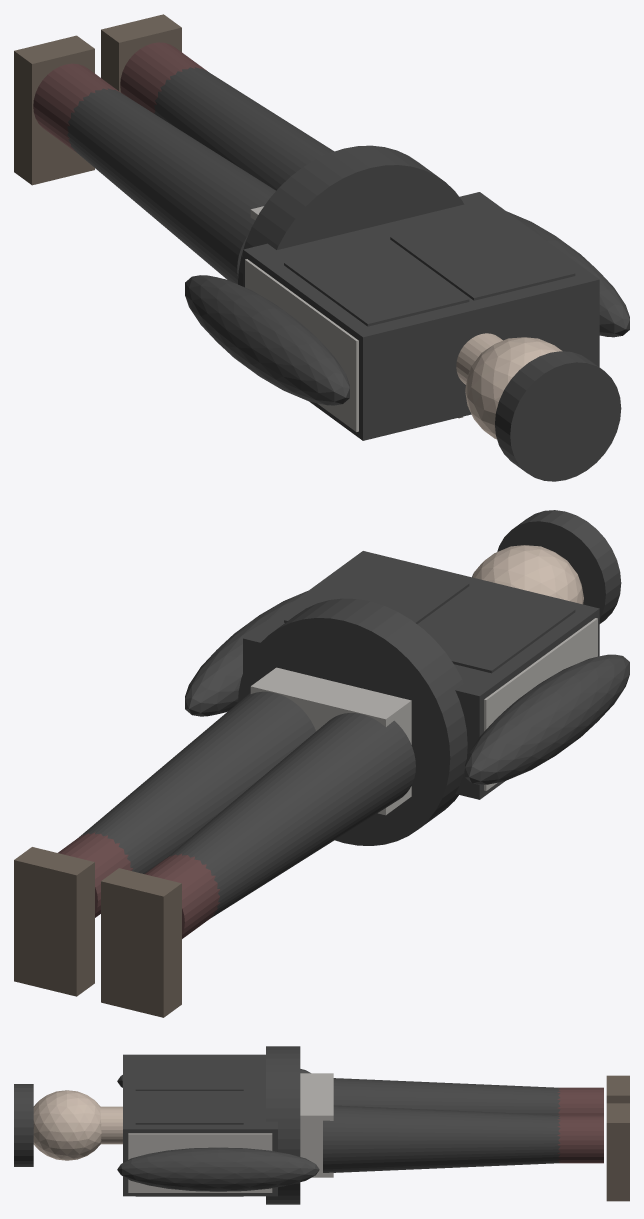
File: MASTER_053_STAGE3_DETAIL.glb
The picture shows the model from 3 angles, top to bottom: view 1: azimuth 30°, elevation 25°; view 2: azimuth 150°, elevation 25°; view 3: azimuth 270°, elevation 25°; orthographic projection. The views are drawn at different scales.
Parts seen in each view (by area): view 1: slot_upper_inner__këmishë, slot_lower_main__pantallona_L, slot_waist__brez, slot_headwear__mbulesë_koke, slot_upper_inner_sleeve_L, slot_lower_main__pantallona_R, slot_upper_outer__jelek_R, slot_upper_outer__jelek_L, slot_footwear__opinga_L, mannequin_torso, mannequin_head, slot_legwear__çorape_L (+4 smaller); view 2: slot_waist__brez, slot_lower_main__pantallona_L, slot_lower_main__pantallona_R, slot_footwear__opinga_R, slot_footwear__opinga_L, slot_upper_inner_sleeve_L, slot_upper_inner__këmishë, slot_upper_outer__jelek_L, slot_headwear__mbulesë_koke, mannequin_hips, slot_upper_outer__jelek_R, mannequin_head (+4 smaller); view 3: slot_lower_main__pantallona_R, slot_upper_inner_sleeve_R, slot_lower_main__pantallona_L, slot_upper_inner__këmishë, mannequin_head, slot_waist__brez, slot_upper_outer__jelek_R, slot_upper_outer__jelek_L, mannequin_torso, mannequin_hips, slot_footwear__opinga_R, slot_legwear__çorape_R (+4 smaller).
Boxes of the visible parts, x1,y1,x2,y2 form: slot_upper_inner__këmishë: (243, 192, 599, 440); slot_lower_main__pantallona_L: (67, 88, 275, 284); slot_waist__brez: (238, 145, 464, 286); slot_headwear__mbulesë_koke: (495, 351, 621, 481); slot_upper_inner_sleeve_L: (185, 275, 349, 405); slot_lower_main__pantallona_R: (154, 67, 334, 190); slot_upper_outer__jelek_R: (390, 212, 575, 300); slot_upper_outer__jelek_L: (284, 238, 469, 326); slot_footwear__opinga_L: (14, 35, 94, 185); mannequin_torso: (245, 259, 358, 431); mannequin_head: (465, 337, 562, 439); slot_legwear__çorape_L: (33, 63, 119, 152); slot_waist__brez: (238, 598, 467, 845); slot_lower_main__pantallona_L: (165, 713, 415, 918); slot_lower_main__pantallona_R: (79, 691, 315, 873); slot_footwear__opinga_R: (14, 847, 94, 996); slot_footwear__opinga_L: (101, 868, 181, 1017); slot_upper_inner_sleeve_L: (465, 654, 629, 784); slot_upper_inner__këmishë: (243, 551, 599, 799); slot_upper_outer__jelek_L: (419, 585, 575, 673); slot_headwear__mbulesë_koke: (497, 510, 621, 623); mannequin_hips: (250, 667, 411, 815); slot_upper_outer__jelek_R: (284, 559, 469, 623); mannequin_head: (472, 545, 583, 604); slot_lower_main__pantallona_R: (323, 1105, 560, 1172); slot_upper_inner_sleeve_R: (117, 1147, 319, 1191); slot_lower_main__pantallona_L: (333, 1078, 560, 1114); slot_upper_inner__këmishë: (123, 1054, 277, 1196); mannequin_head: (33, 1090, 101, 1160); slot_waist__brez: (266, 1046, 300, 1204); slot_upper_outer__jelek_R: (135, 1091, 243, 1196); slot_upper_outer__jelek_L: (135, 1057, 243, 1090); mannequin_torso: (128, 1133, 272, 1192); mannequin_hips: (300, 1073, 333, 1177); slot_footwear__opinga_R: (606, 1103, 629, 1201); slot_legwear__çorape_R: (557, 1115, 603, 1163).
Bounding box in the file's own units: 0.7033 × 0.44 × 1.71.
